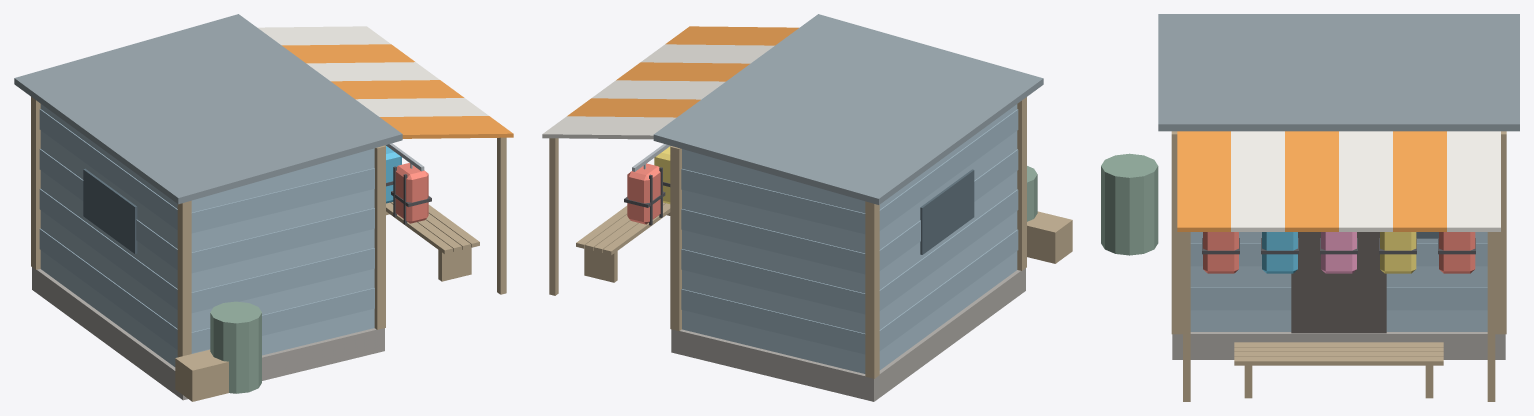
The model's file is island_base.glb.
The picture shows the model from 3 angles, left to right: view 1: azimuth 30°, elevation 25°; view 2: azimuth 150°, elevation 25°; view 3: azimuth 270°, elevation 25°; orthographic projection. The views are drawn at different scales.
Parts seen in each view (by area): view 1: ib_shack_mesh; view 2: ib_shack_mesh; view 3: ib_shack_mesh.
Boxes of the visible parts, x1,y1,x2,y2 form: ib_shack_mesh: [14, 14, 513, 401]; ib_shack_mesh: [542, 14, 1072, 401]; ib_shack_mesh: [1101, 14, 1519, 401].
Bounding box in the file's own units: 4.7 × 2.8 × 4.4.
